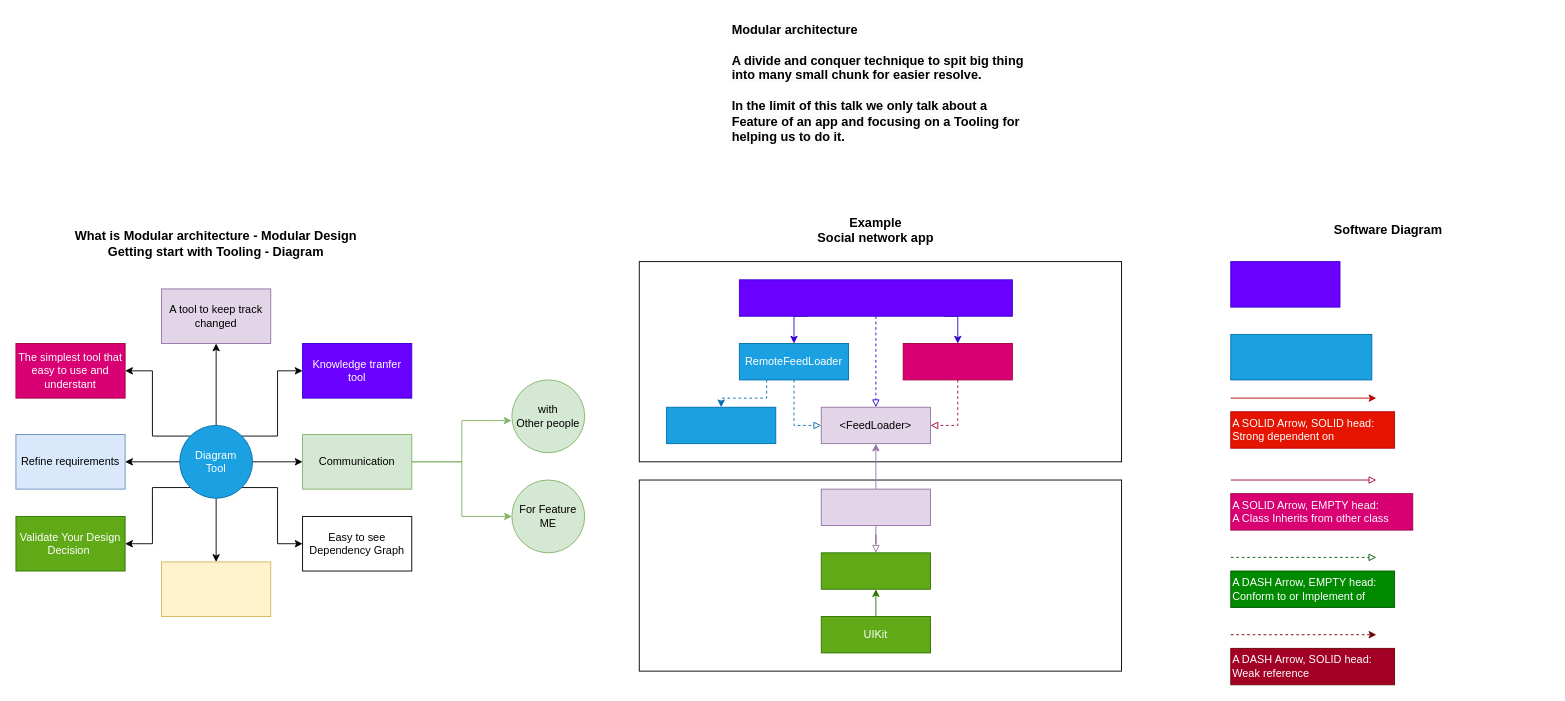
This 1565x701 diagram has some shape labels left out. The centre of each missing label's shape, as x and y in pixels:
"<An Interface Abstraction>" belongs at [1301,357].
"An Instant of Class" belongs at [1285,284].
"FeedViewController" belongs at [875,507].
"HTTPClient" belongs at [721,425].
"LocalFeedLoader" belongs at [957,361].
"RemoteWithLocalFallbackFeedLoader" belongs at [875,297].
"See potentially Mem leak" belongs at [216,589].
"UIViewController" belongs at [875,570].
